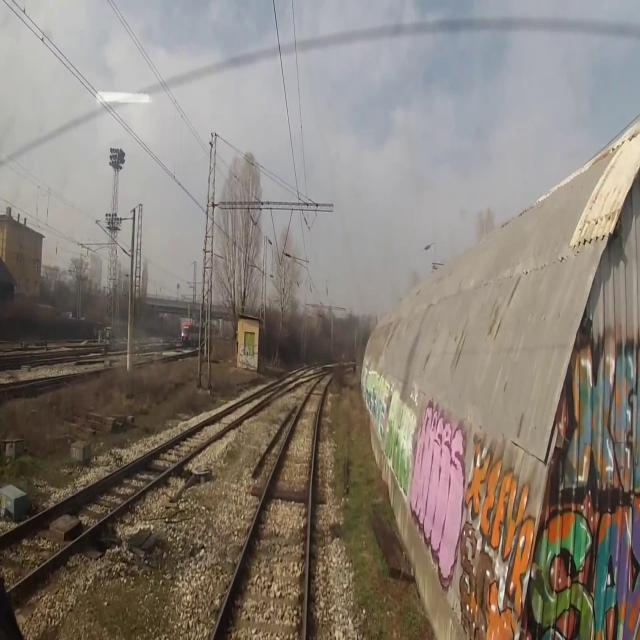rail-track: (0, 396, 262, 590), (216, 372, 333, 639)
